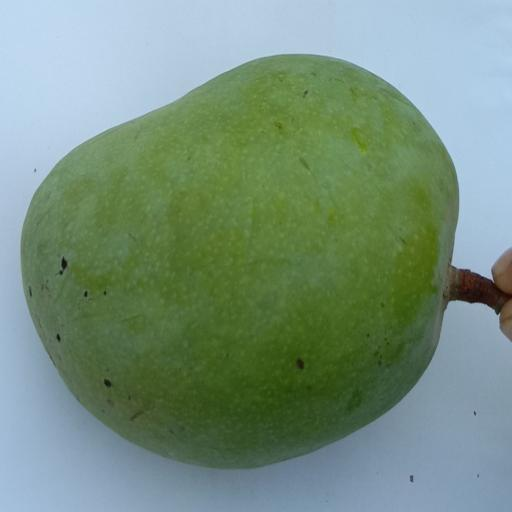mango-unripe: (12, 29, 480, 489)
